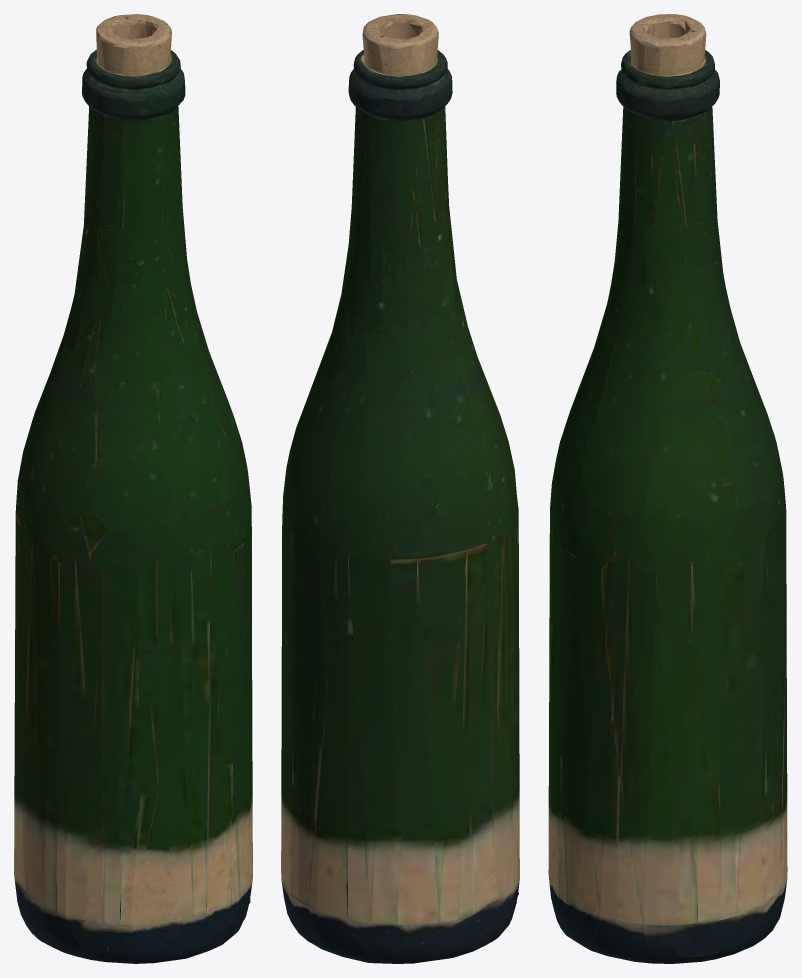
Rendered from message-bottle.glb.
3 renders of one model, left to right at view 1: azimuth 30°, elevation 25°; view 2: azimuth 150°, elevation 25°; view 3: azimuth 270°, elevation 25°, orthographic.
Bounding box in the file's own units: 0.4612 × 1.9 × 0.4609.
1 material, 1 textured.
